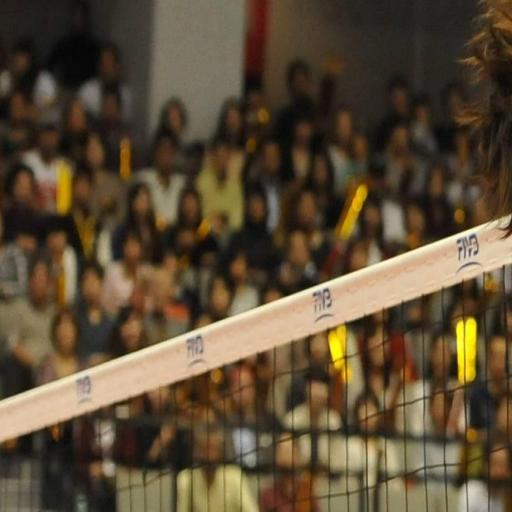person: (465, 2, 511, 217), (0, 260, 55, 394), (177, 425, 258, 511), (284, 366, 342, 468), (136, 129, 186, 228), (227, 186, 277, 282), (260, 432, 319, 511), (49, 0, 98, 89), (78, 43, 133, 121), (197, 140, 243, 231), (0, 39, 57, 109), (459, 435, 511, 511), (76, 262, 114, 364), (112, 183, 161, 261), (274, 60, 315, 153), (23, 115, 62, 212), (470, 336, 508, 434), (102, 232, 144, 315), (246, 139, 283, 233), (37, 309, 80, 385), (0, 213, 37, 299), (45, 216, 79, 306), (2, 164, 36, 241), (375, 76, 410, 150), (329, 108, 354, 192), (229, 249, 259, 315), (108, 306, 146, 358), (411, 95, 438, 160)
